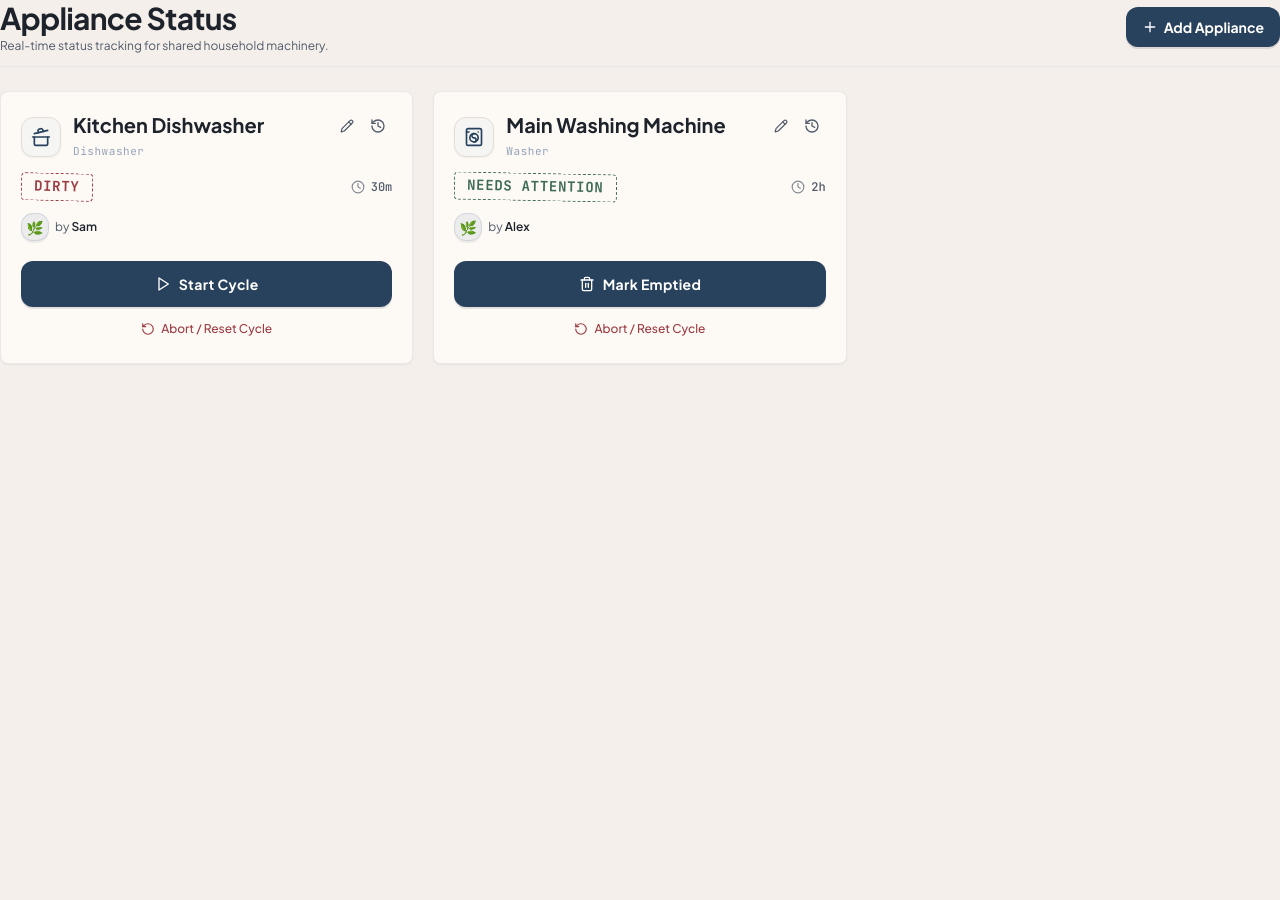
Scenario: ApplianceDashboard Component › opens history modal when History button is clicked
Click the button named "history" next to "Kitchen Dishwasher".
click(378, 126)  # box [364,112,392,140]
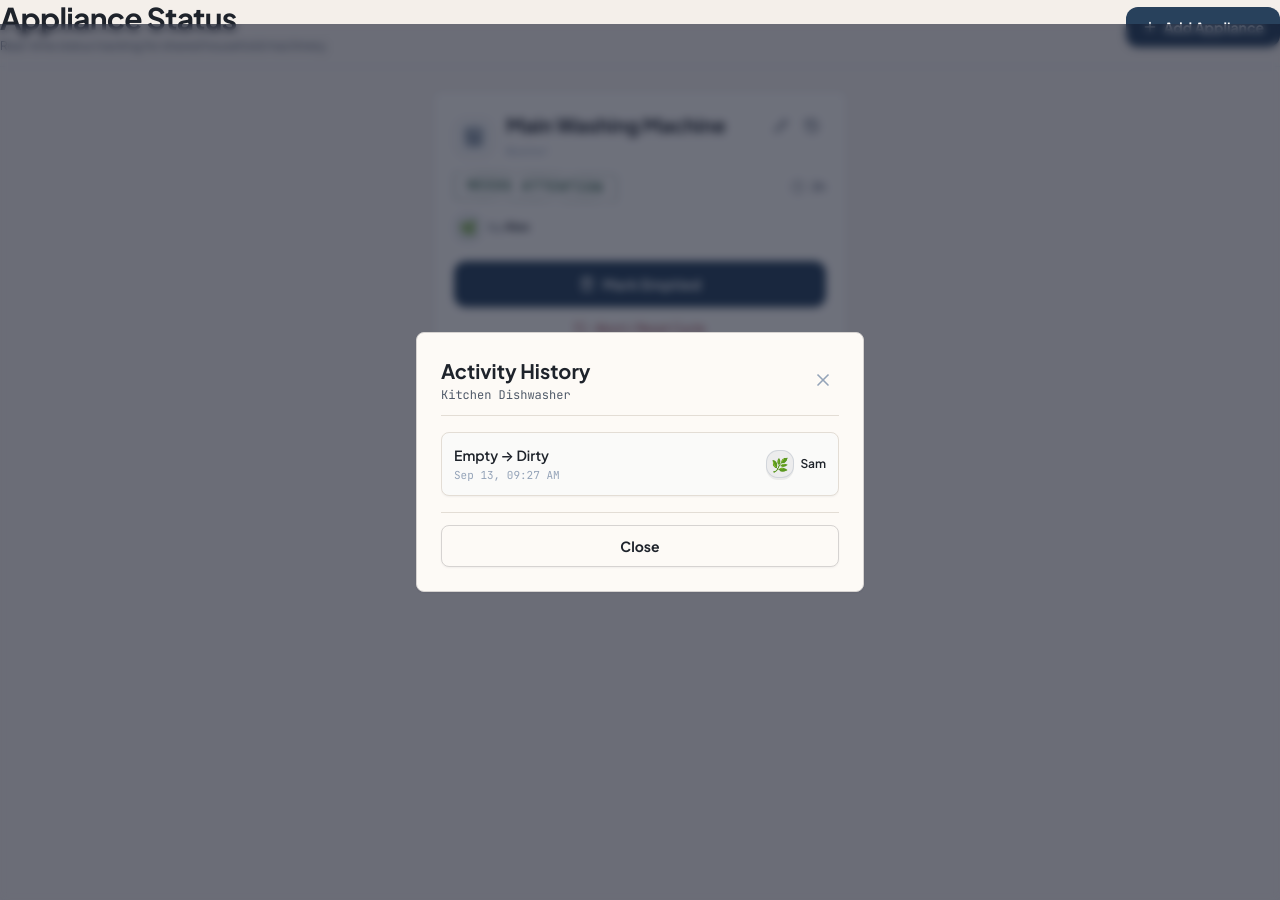
Expected: the heading "Activity History" is shown, [441,357,591,385]
Expected: the text "empty → dirty" is shown, [454,445,560,465]
